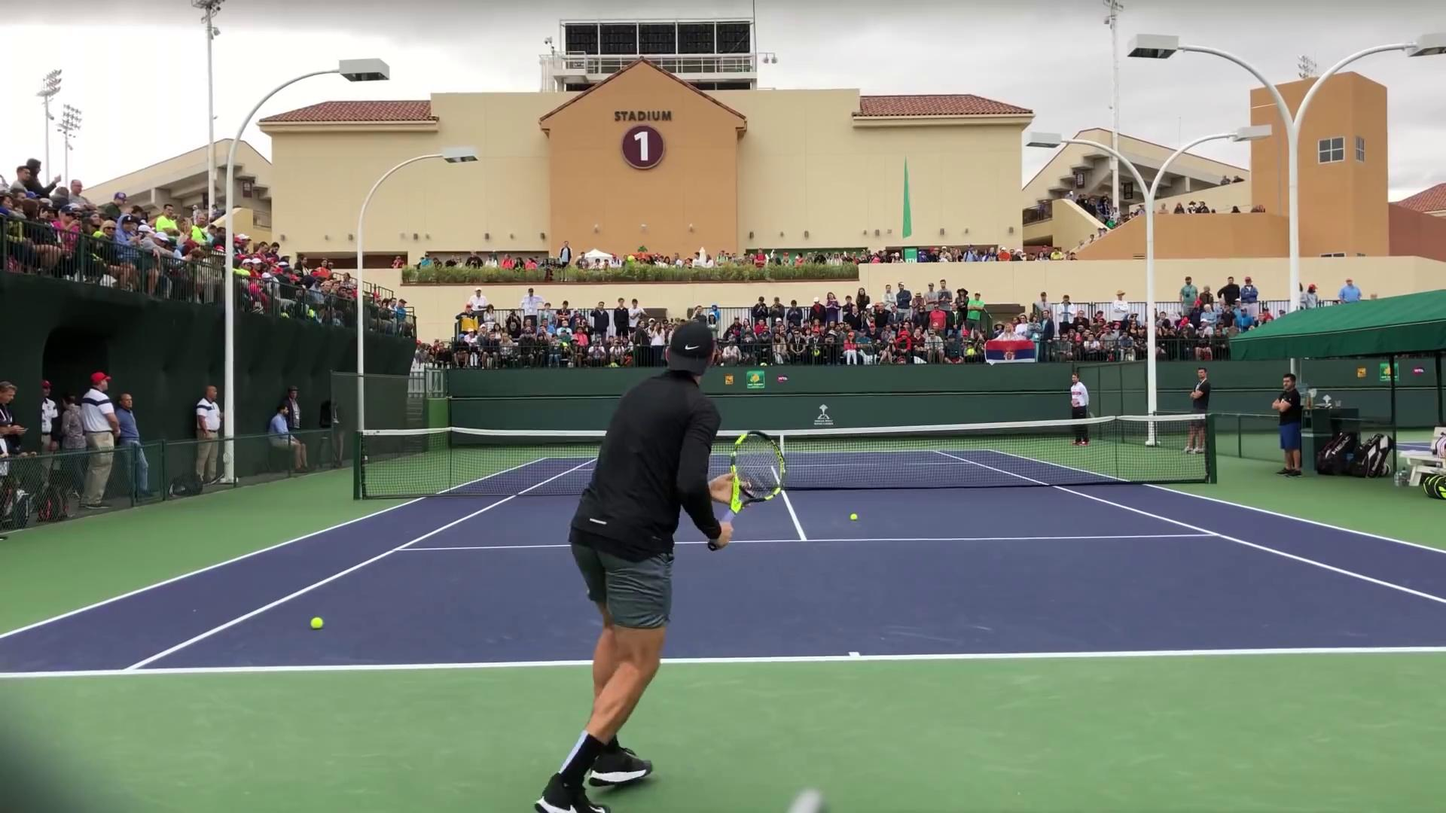ball: (308, 615, 323, 630), (848, 513, 857, 522)
